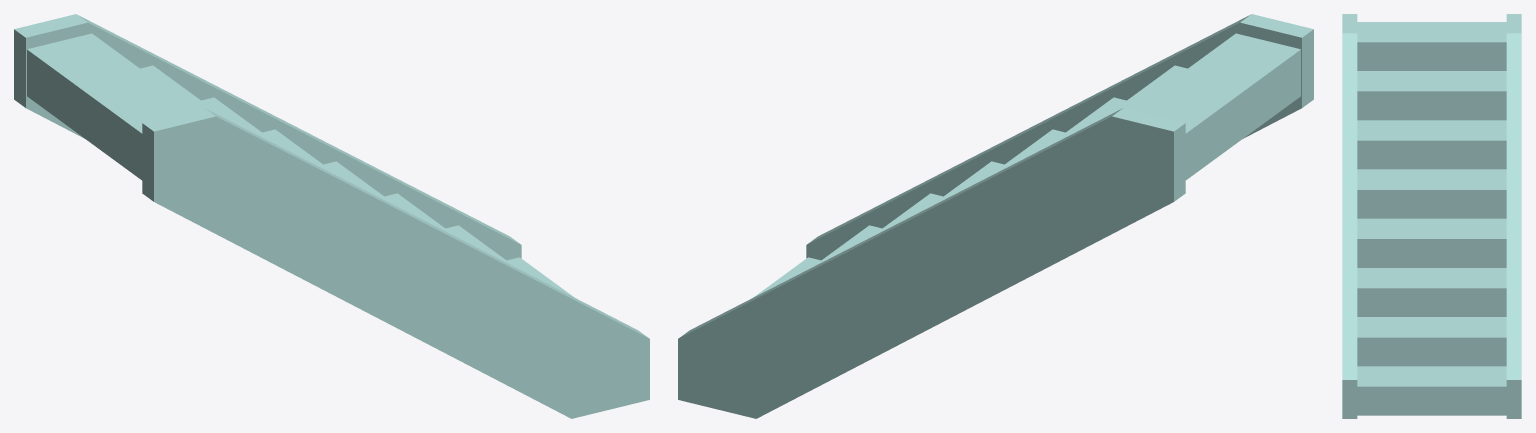
Rendered from DarkWood_Stairs.fbx.
3 renders of one model, left to right at view 1: azimuth 30°, elevation 25°; view 2: azimuth 150°, elevation 25°; view 3: azimuth 270°, elevation 25°, orthographic. The views are drawn at different scales.
Visible parts, largest first — view 1: DarkWood_Stairs; view 2: DarkWood_Stairs; view 3: DarkWood_Stairs.
Part boxes in pixels (box(x1,y1,x2,y2)): DarkWood_Stairs: box(14, 14, 649, 418); DarkWood_Stairs: box(678, 14, 1313, 418); DarkWood_Stairs: box(1342, 14, 1521, 418).
Size of what is drawn, in the model's own units: 244 by 183 by 119.
